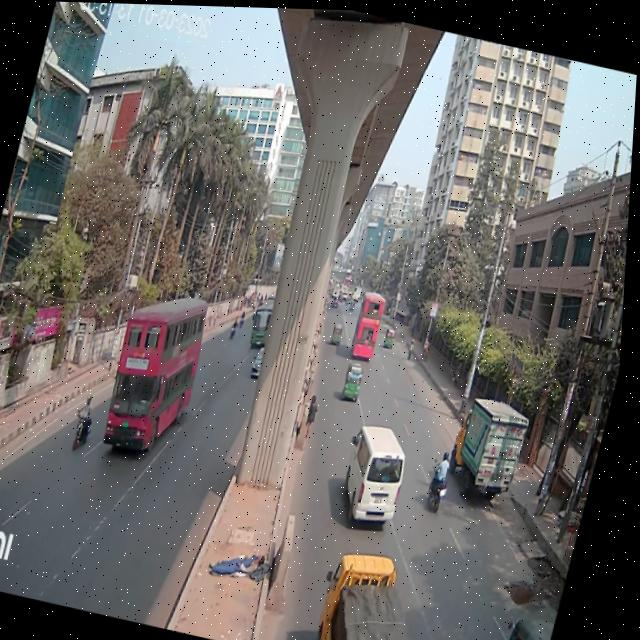cng: (342, 354, 374, 409), (382, 320, 404, 353), (332, 322, 348, 350)
